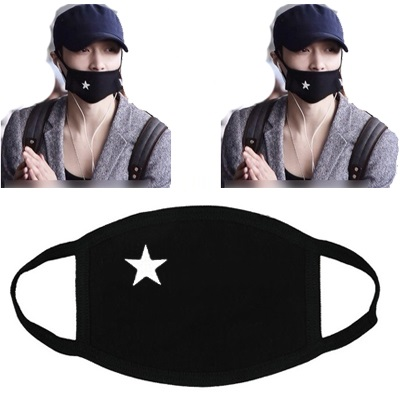face_mask: (284, 26, 341, 103), (64, 26, 120, 98)
